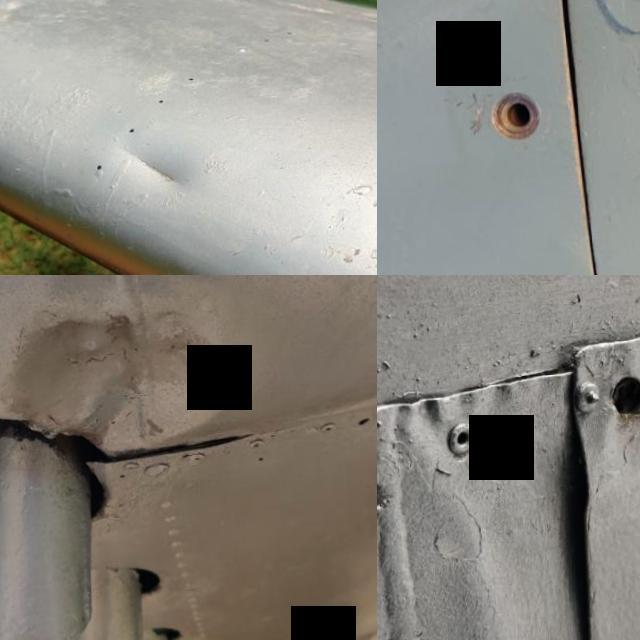Dent: (0, 277, 253, 474), (86, 102, 207, 212)
Missing_Fastener: (550, 328, 640, 462), (463, 72, 565, 177)
